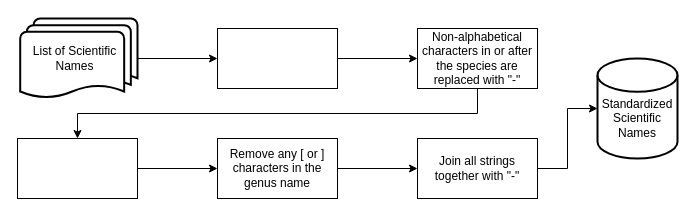
The diagram is 696 pixels wide and 216 high, and some of its shapes have lost their labels. Each missing label, with the box of its shape:
If there is a strain tag, it is joined to the species name with a "-".: (16, 138, 138, 198)
Split between genus and species in scientific name: (216, 28, 338, 88)
